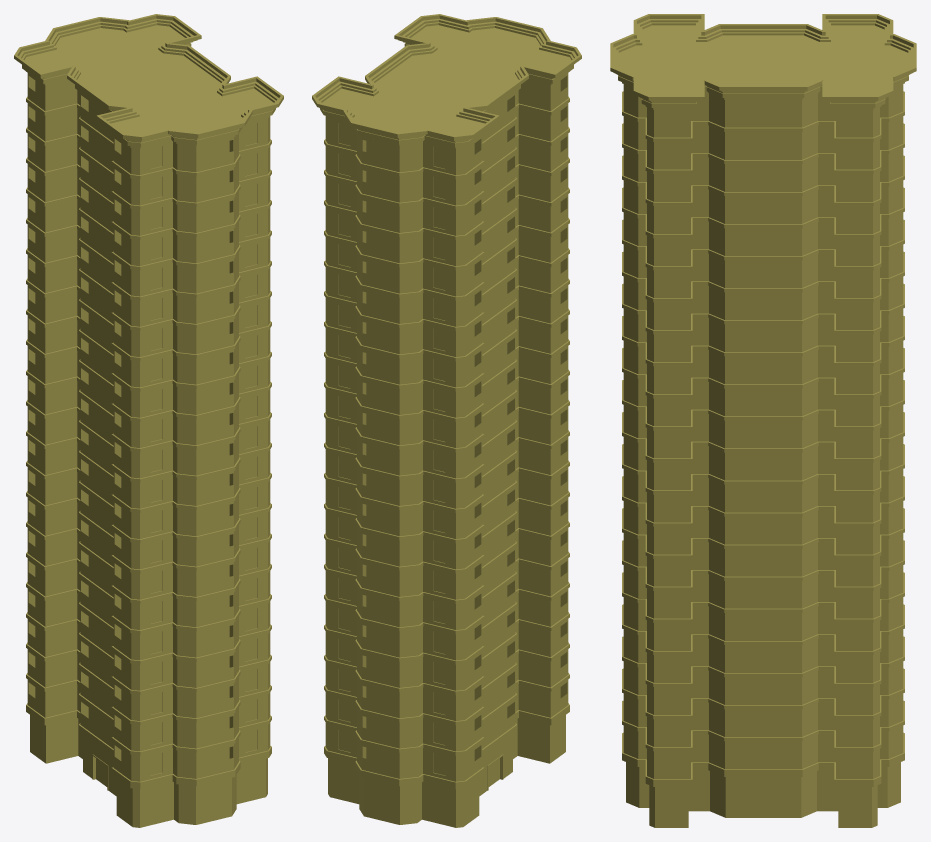
File: Casino.fbx
3 renders of one model, left to right at view 1: azimuth 30°, elevation 25°; view 2: azimuth 150°, elevation 25°; view 3: azimuth 270°, elevation 25°, orthographic. The views are drawn at different scales.
Parts seen in each view (by area): view 1: Mesh4; view 2: Mesh4; view 3: Mesh4.
Boxes of the visible parts, x1,y1,x2,y2 form: Mesh4: [14, 14, 283, 827]; Mesh4: [312, 14, 581, 827]; Mesh4: [610, 14, 916, 827].
Size of the model in its own units: 20 by 82.8 by 31.2.
